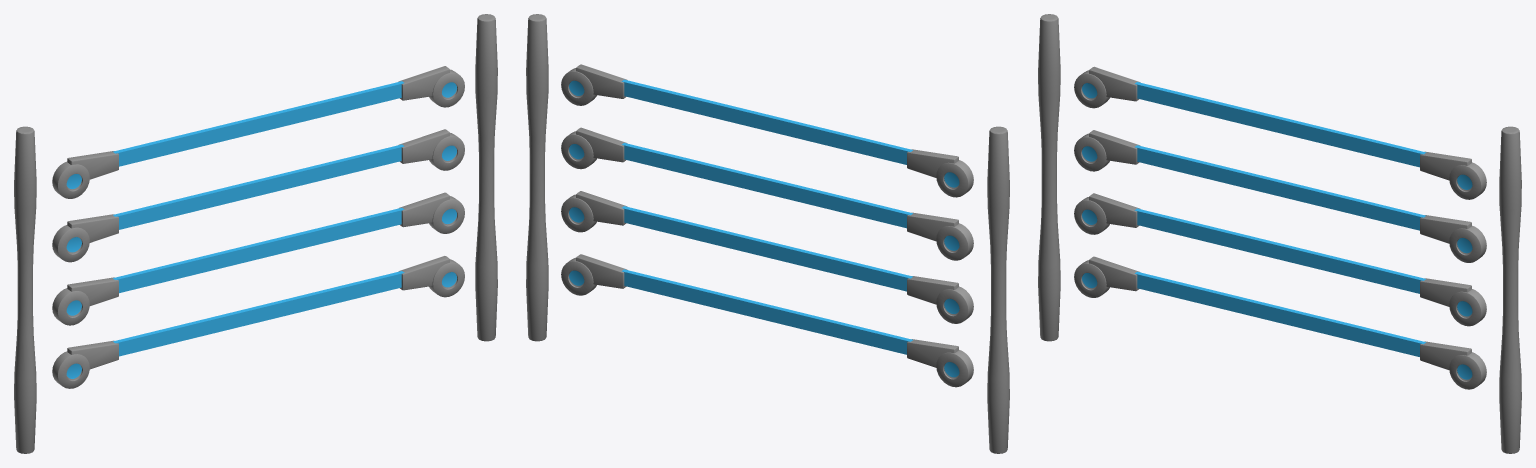
The model's file is LightFenceModel.FBX.
3 views of the same model, side by side, from view 1: azimuth 30°, elevation 25°; view 2: azimuth 150°, elevation 25°; view 3: azimuth 330°, elevation 25° (orthographic).
Parts seen in each view (by area): view 1: Pilon_LP, Pilon_Full, LightBeam_Full001, LightBeam_Full003, LightBeam_Full, LightBeam_Full002, BeamEmitter_Full001, BeamEmitter_Full, BeamEmitter_Full002, BeamEmitter_Full003; view 2: Pilon_LP, Pilon_Full, LightBeam_Full, LightBeam_Full003, LightBeam_Full002, LightBeam_Full001, BeamEmitter_Full, BeamEmitter_Full001, BeamEmitter_Full003, BeamEmitter_Full002; view 3: Pilon_LP, Pilon_Full, LightBeam_Full002, LightBeam_Full, LightBeam_Full003, LightBeam_Full001, BeamEmitter_Full001, BeamEmitter_Full002, BeamEmitter_Full003, BeamEmitter_Full.
Boxes of the visible parts, x1,y1,x2,y2 form: Pilon_LP: (475, 14, 497, 341); Pilon_Full: (14, 126, 36, 453); LightBeam_Full001: (66, 144, 456, 252); LightBeam_Full003: (66, 271, 456, 378); LightBeam_Full: (66, 81, 456, 189); LightBeam_Full002: (66, 207, 456, 315); BeamEmitter_Full001: (52, 129, 464, 262); BeamEmitter_Full: (52, 66, 464, 198); BeamEmitter_Full002: (52, 192, 464, 325); BeamEmitter_Full003: (52, 256, 464, 388); Pilon_LP: (526, 14, 548, 341); Pilon_Full: (987, 126, 1009, 453); LightBeam_Full: (569, 79, 959, 187); LightBeam_Full003: (569, 269, 959, 377); LightBeam_Full002: (569, 206, 959, 313); LightBeam_Full001: (569, 143, 959, 250); BeamEmitter_Full: (561, 64, 973, 197); BeamEmitter_Full001: (561, 127, 973, 260); BeamEmitter_Full003: (561, 254, 973, 387); BeamEmitter_Full002: (561, 191, 973, 323); Pilon_LP: (1499, 126, 1521, 453); Pilon_Full: (1038, 14, 1060, 341); LightBeam_Full002: (1082, 208, 1472, 316); LightBeam_Full: (1082, 82, 1472, 189); LightBeam_Full003: (1082, 271, 1472, 379); LightBeam_Full001: (1082, 145, 1472, 253); BeamEmitter_Full001: (1074, 130, 1486, 262); BeamEmitter_Full002: (1074, 193, 1486, 326); BeamEmitter_Full003: (1074, 256, 1486, 389); BeamEmitter_Full: (1074, 66, 1486, 199).
Size of the model in its own units: 43.86 by 27.94 by 1.79.
